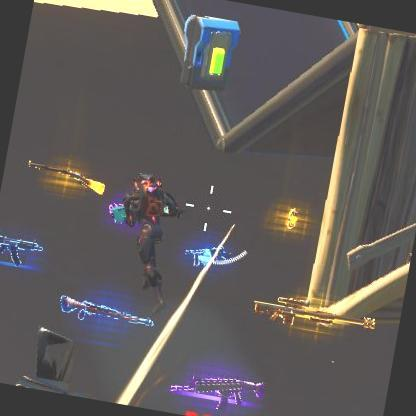person: (112, 169, 188, 291), (134, 220, 166, 269)
